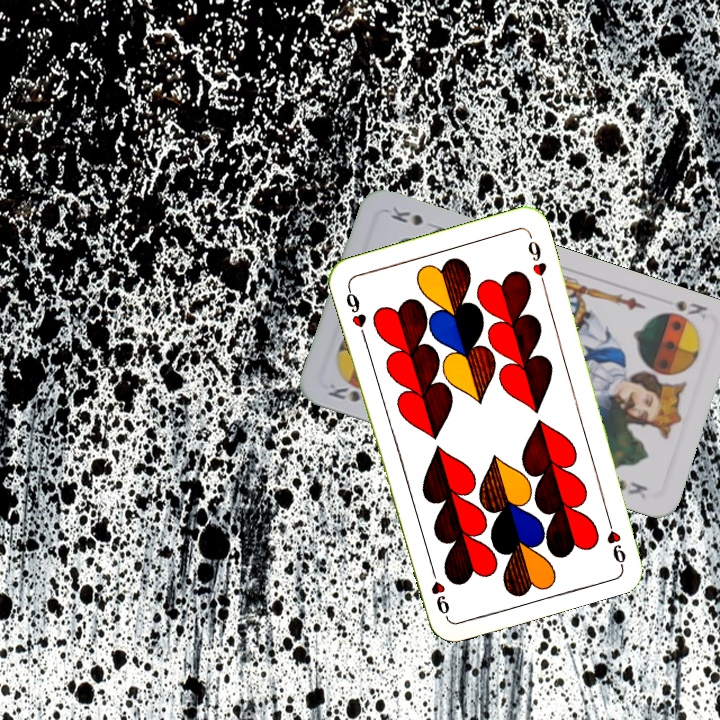H9: (601, 509, 629, 567), (342, 283, 369, 341)
SK: (657, 294, 710, 322), (323, 383, 363, 405)
